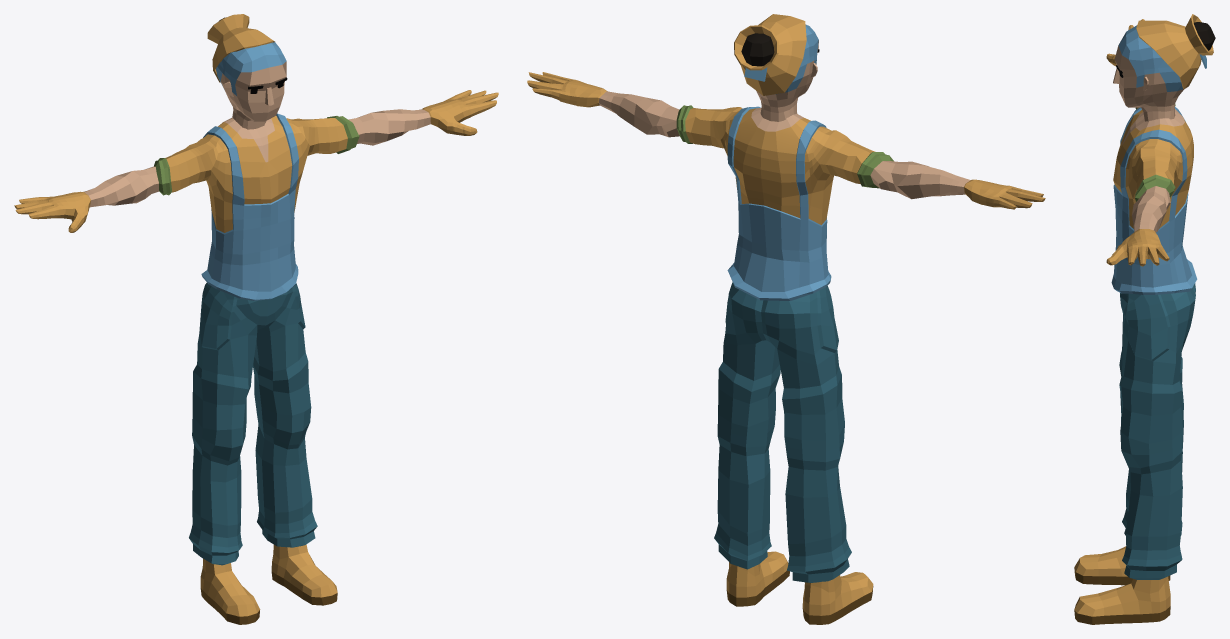
File: cleaner.fbx
3 views of the same model, side by side, from view 1: azimuth 30°, elevation 25°; view 2: azimuth 150°, elevation 25°; view 3: azimuth 270°, elevation 25° (orthographic). The views are drawn at different scales.
Visible parts, largest first — view 1: Farmer_Pants, Farmer_Body, Farmer_Feet, Farmer_Head, Cylinder; view 2: Farmer_Pants, Farmer_Body, Farmer_Feet, Cylinder, Farmer_Head, Sphere; view 3: Farmer_Pants, Farmer_Body, Farmer_Feet, Farmer_Head, Cylinder, Sphere.
Boxes of the visible parts, <box> form: Farmer_Pants: <box>189,283,317,565</box>; Farmer_Body: <box>14,90,498,300</box>; Farmer_Feet: <box>200,544,337,624</box>; Farmer_Head: <box>216,42,286,129</box>; Cylinder: <box>207,14,274,82</box>; Farmer_Pants: <box>714,282,851,582</box>; Farmer_Body: <box>527,72,1045,300</box>; Farmer_Feet: <box>726,551,873,624</box>; Cylinder: <box>734,14,806,95</box>; Farmer_Head: <box>756,24,818,121</box>; Sphere: <box>741,33,774,66</box>; Farmer_Pants: <box>1119,283,1195,579</box>; Farmer_Body: <box>1106,19,1197,294</box>; Farmer_Feet: <box>1074,546,1170,624</box>; Farmer_Head: <box>1113,25,1183,121</box>; Cylinder: <box>1136,14,1213,89</box>; Sphere: <box>1193,22,1215,50</box>.
Bounding box in the file's own units: 168 × 185 × 40.89.
